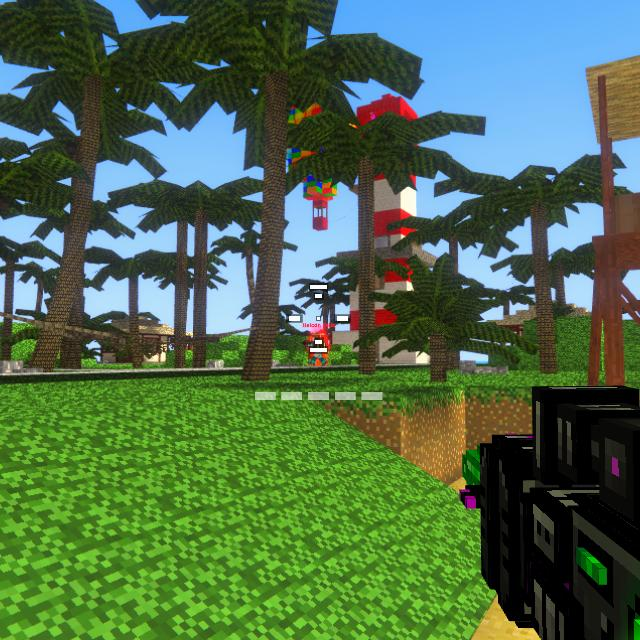Enemy: (305, 332, 328, 366)
